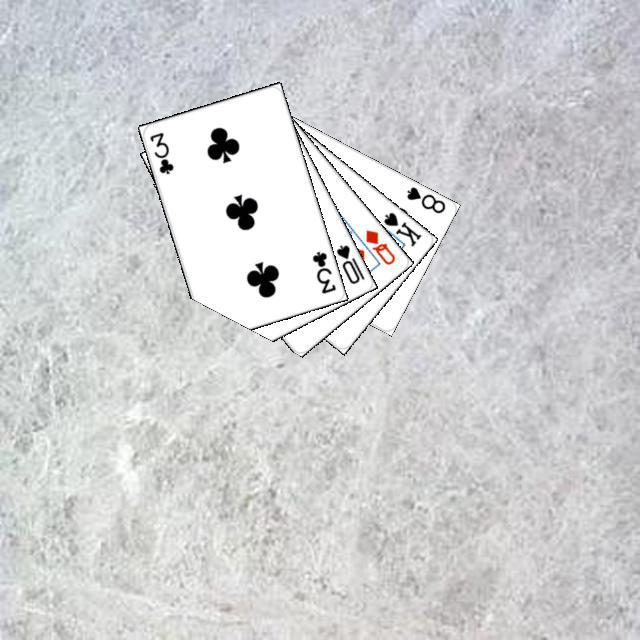10s: (331, 240, 366, 286)
3c: (307, 246, 338, 295), (145, 127, 175, 176)
8s: (402, 181, 447, 215)
Ks: (378, 207, 423, 248)
Qd: (360, 225, 397, 267)
